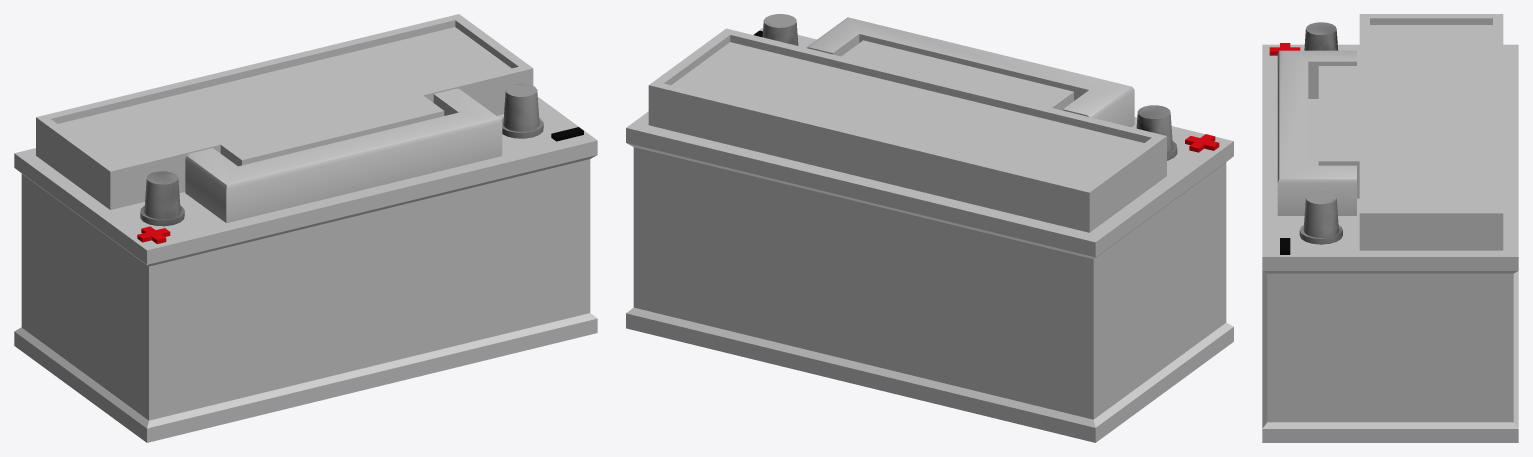
The model's file is battery.fbx.
The picture shows the model from 3 angles, left to right: view 1: azimuth 30°, elevation 25°; view 2: azimuth 150°, elevation 25°; view 3: azimuth 270°, elevation 25°; orthographic projection. The views are drawn at different scales.
Visible parts, largest first — view 1: battery_lod0; view 2: battery_lod0; view 3: battery_lod0.
Part boxes in pixels (<box>): battery_lod0: <box>14,14,597,442</box>; battery_lod0: <box>626,14,1233,442</box>; battery_lod0: <box>1262,14,1518,442</box>.
Size of what is drawn, in the model's own units: 24.5 by 12.02 by 12.5.
